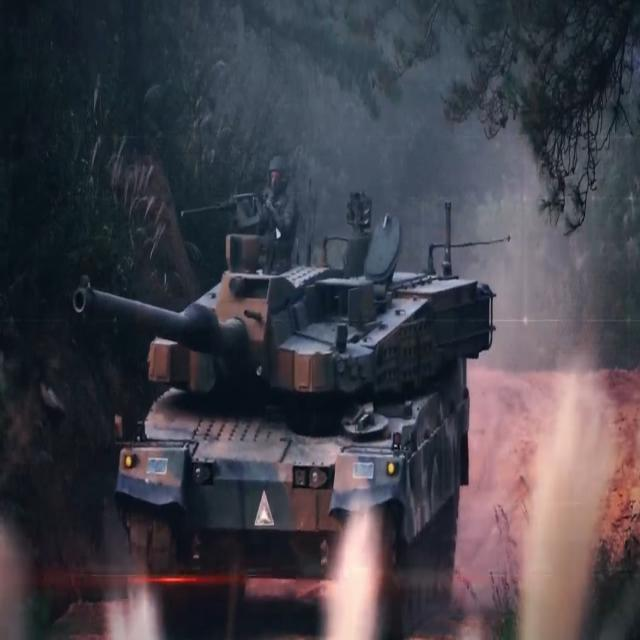korea tank: (72, 150, 498, 640)
